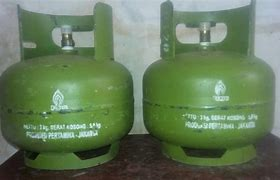gas_ijo: (1, 2, 134, 172), (142, 1, 275, 166)
